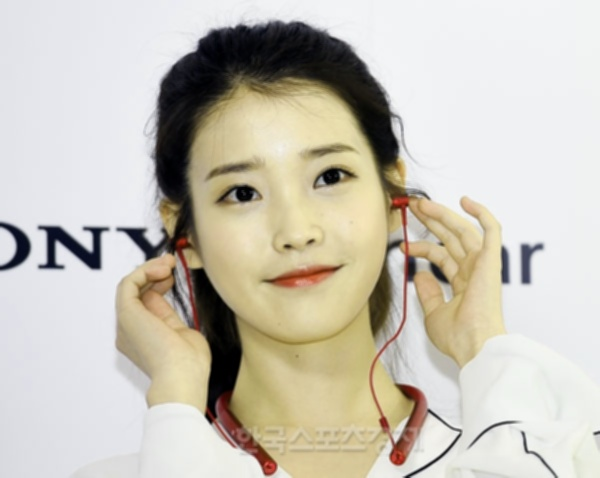earphone: (161, 200, 206, 270), (378, 156, 409, 233)
